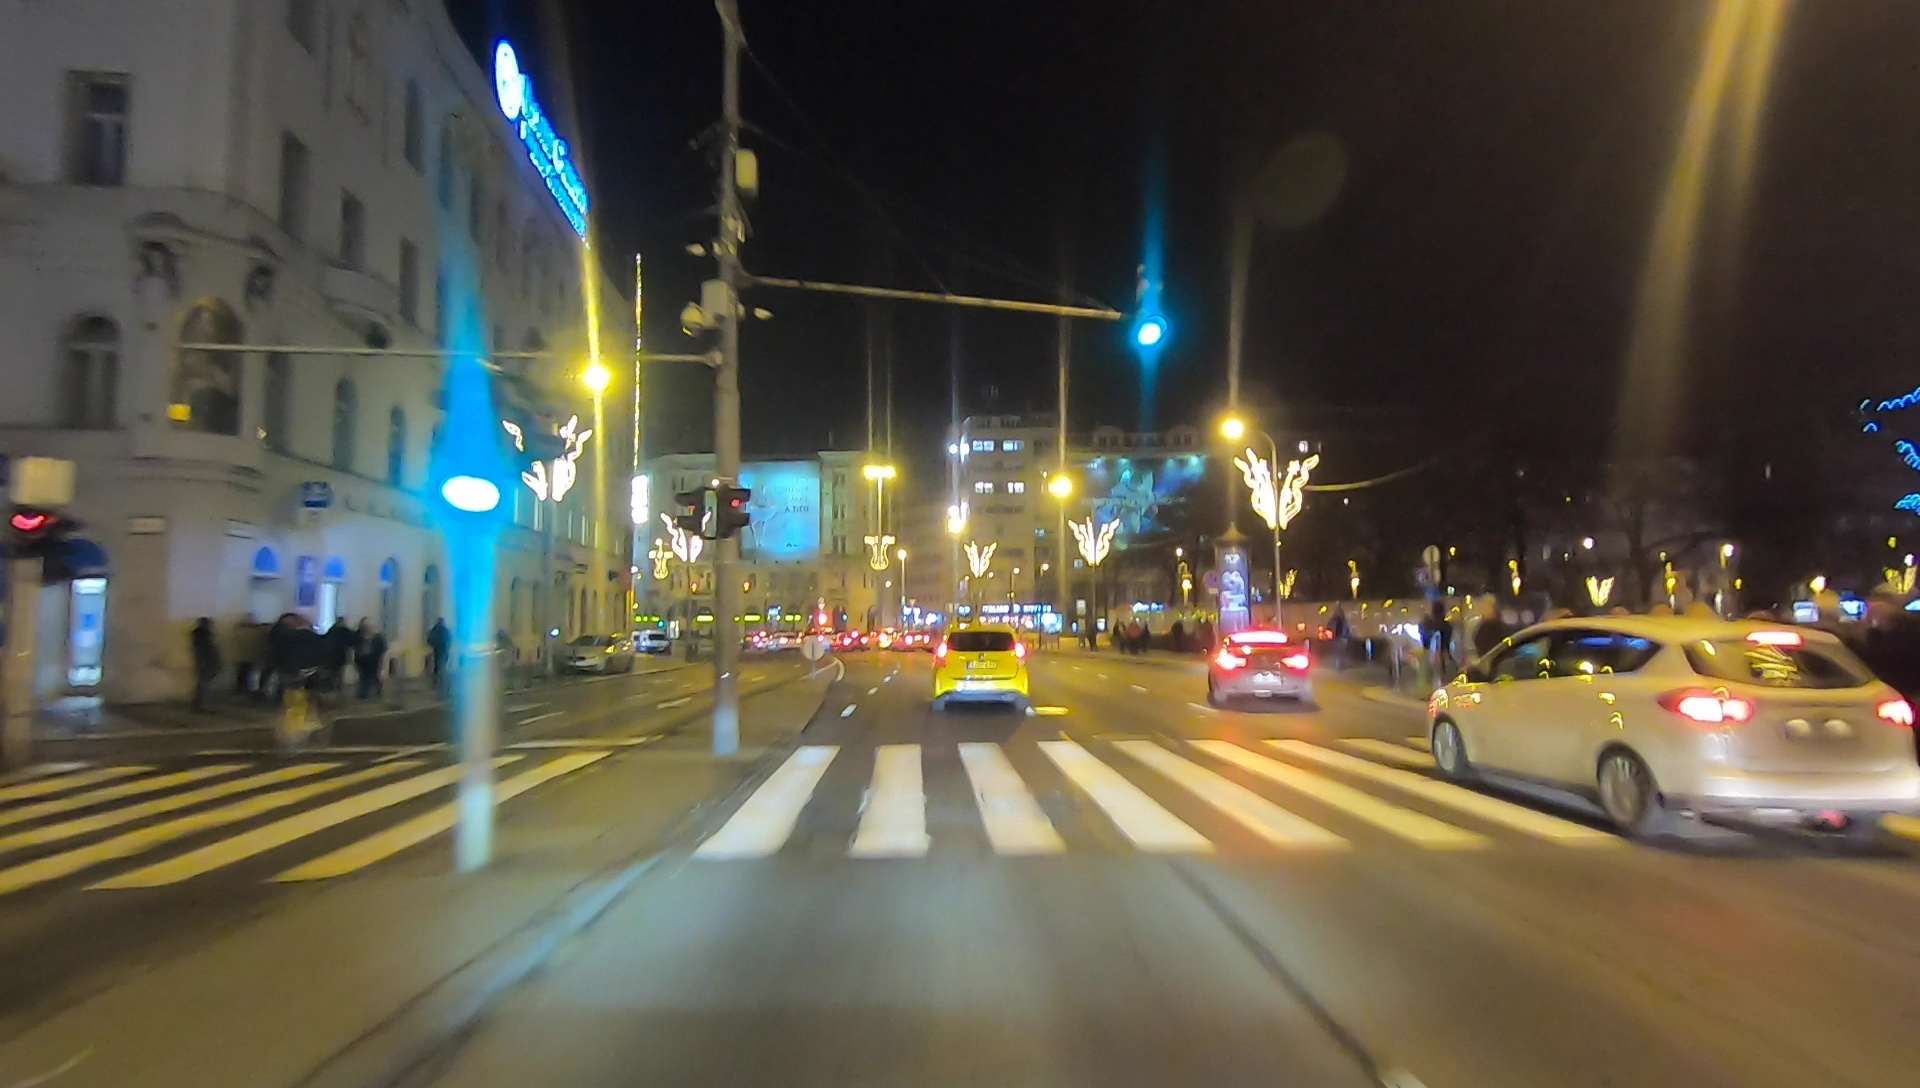person: (184, 613, 223, 713), (267, 621, 304, 721), (321, 617, 352, 723), (234, 606, 262, 706), (356, 617, 382, 697), (428, 613, 456, 689)
